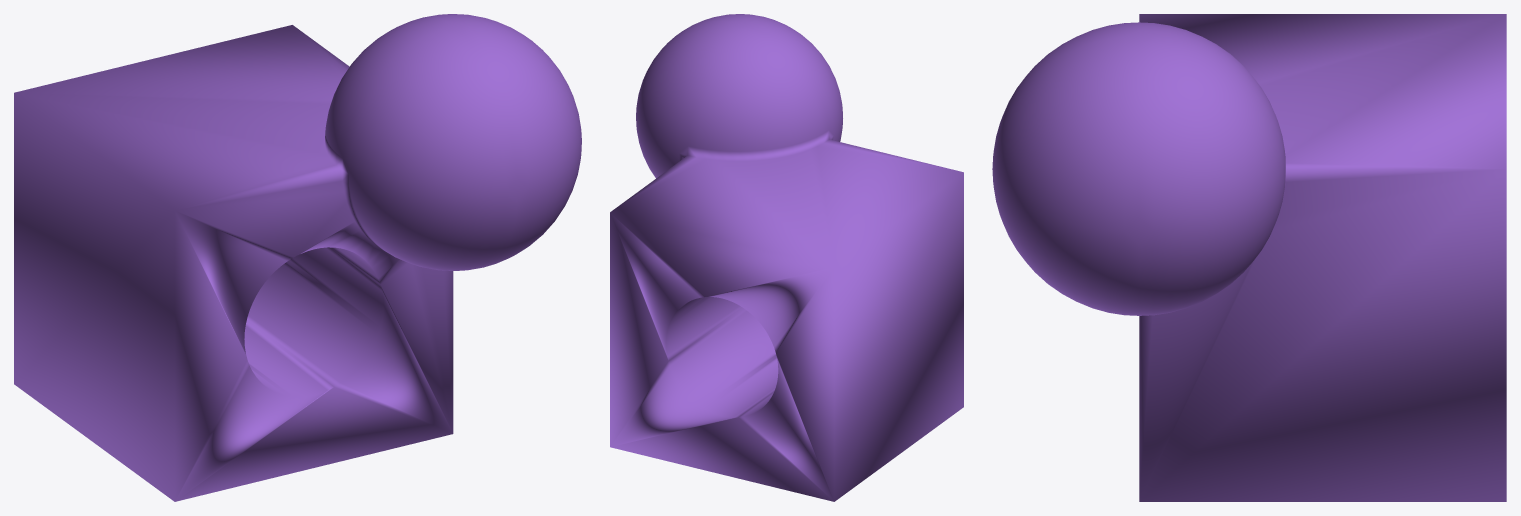
Rendered from expected.gltf.
3 renders of one model, left to right at view 1: azimuth 30°, elevation 25°; view 2: azimuth 150°, elevation 25°; view 3: azimuth 270°, elevation 25°, orthographic. The views are drawn at different scales.
Bounding box in the file's own units: 0.028 × 0.028 × 0.028.
